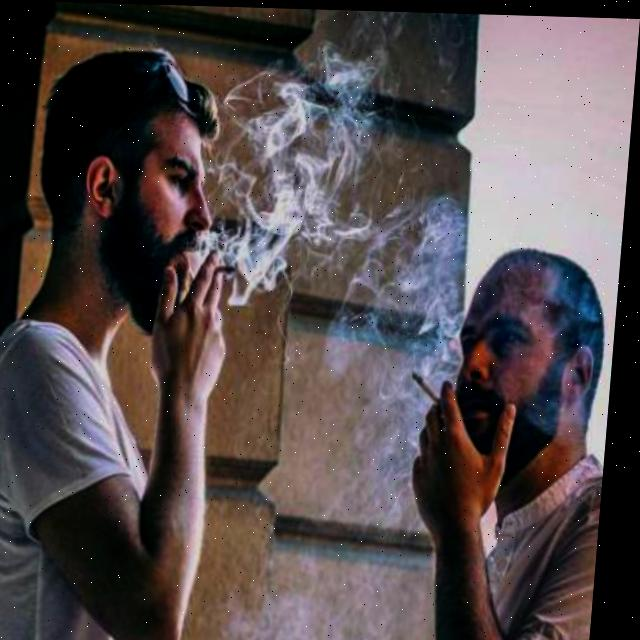cigarette: (414, 367, 450, 402), (218, 263, 244, 276)
